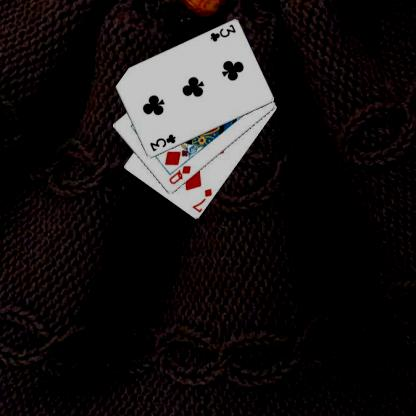3C: (147, 132, 177, 153), (207, 22, 237, 43)
7D: (190, 186, 214, 214)
QD: (166, 163, 192, 186)
